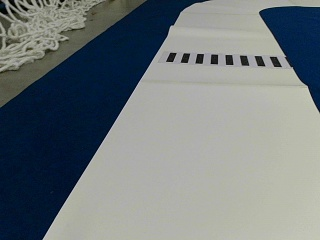crosswalk: (165, 51, 281, 68)
